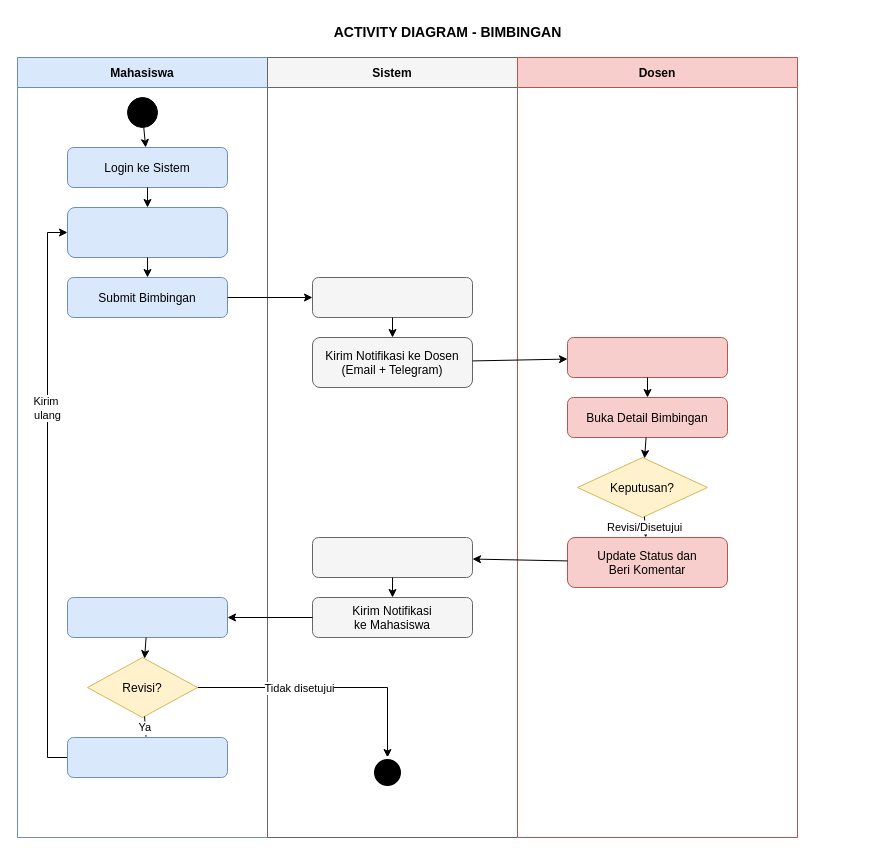
This 895x855 diagram has some shape labels left out. Here are the shapes that lost their labels. From the top down, the centre of each, then its label:
the point at 147,232: Isi Form Bimbingan (Topik, Tanggal, Jenis)
the point at 392,297: Validasi & Simpan ke Database
the point at 647,357: Terima Notifikasi
the point at 392,557: Simpan Status & Komentar
the point at 147,617: Terima Notifikasi Status
the point at 147,757: Perbaiki & Submit Ulang
